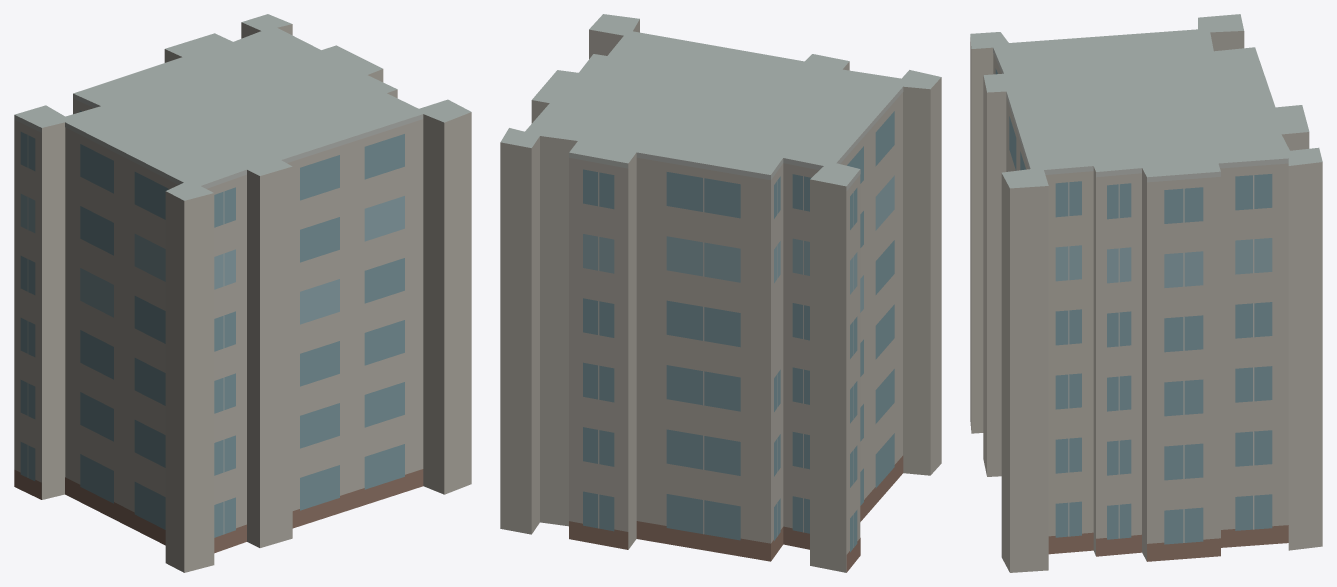
File: survey-upis-32934307.glb
3 views of the same model, side by side, from view 1: azimuth 30°, elevation 25°; view 2: azimuth 150°, elevation 25°; view 3: azimuth 270°, elevation 25° (orthographic). The views are drawn at different scales.
Parts seen in each view (by area): view 1: survey-upis-32934307.tmp; view 2: survey-upis-32934307.tmp; view 3: survey-upis-32934307.tmp.
Boxes of the visible parts, x1,y1,x2,y2 form: survey-upis-32934307.tmp: (14, 14, 471, 572); survey-upis-32934307.tmp: (500, 14, 941, 572); survey-upis-32934307.tmp: (970, 14, 1322, 572).
Bounding box in the file's own units: 17.8 × 18.3 × 15.2.
